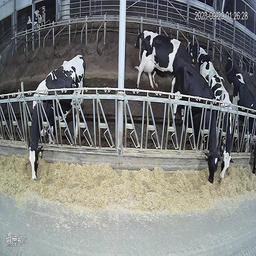cow: (25, 51, 89, 180), (174, 56, 219, 182), (199, 56, 234, 179), (151, 35, 212, 89), (233, 73, 255, 175), (132, 31, 155, 71), (223, 50, 246, 83), (27, 5, 47, 34)
